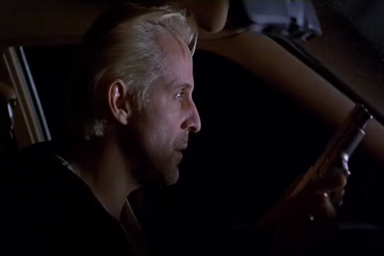cu: (1, 1, 384, 256)
face: (155, 52, 201, 186)
person: (1, 5, 201, 256)
